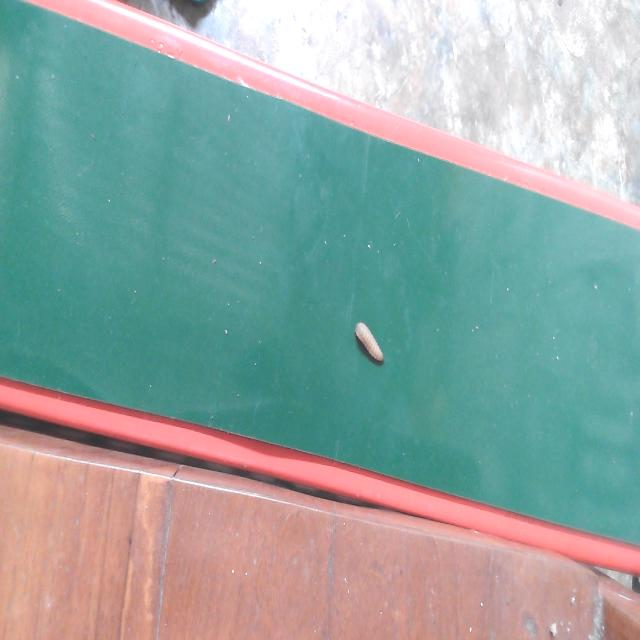Maggot: (355, 322, 385, 367)
